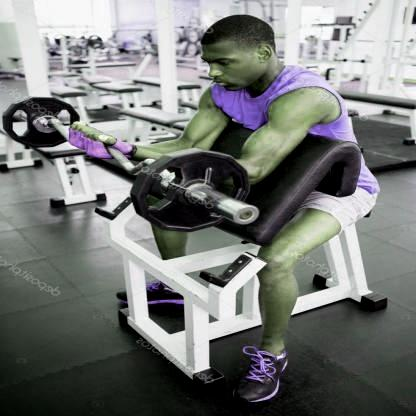Barbell: (229, 199, 264, 228)
